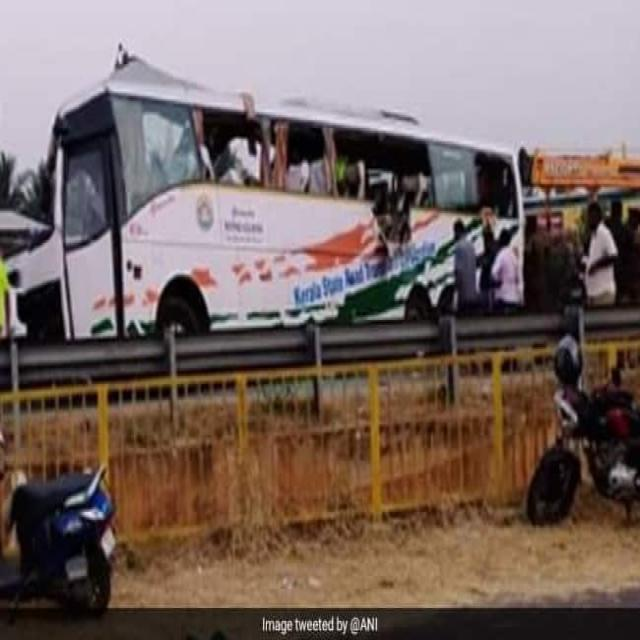accident: (9, 55, 525, 340)
